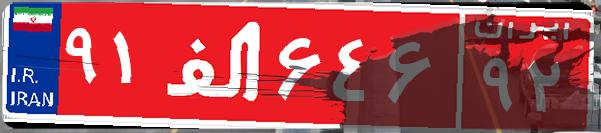1: (110, 28, 158, 105)
2: (525, 38, 570, 115)
4: (330, 28, 385, 110)
6: (385, 28, 445, 110), (273, 28, 330, 110)
9: (57, 26, 110, 107), (475, 38, 525, 113)
الف: (158, 15, 273, 115)
